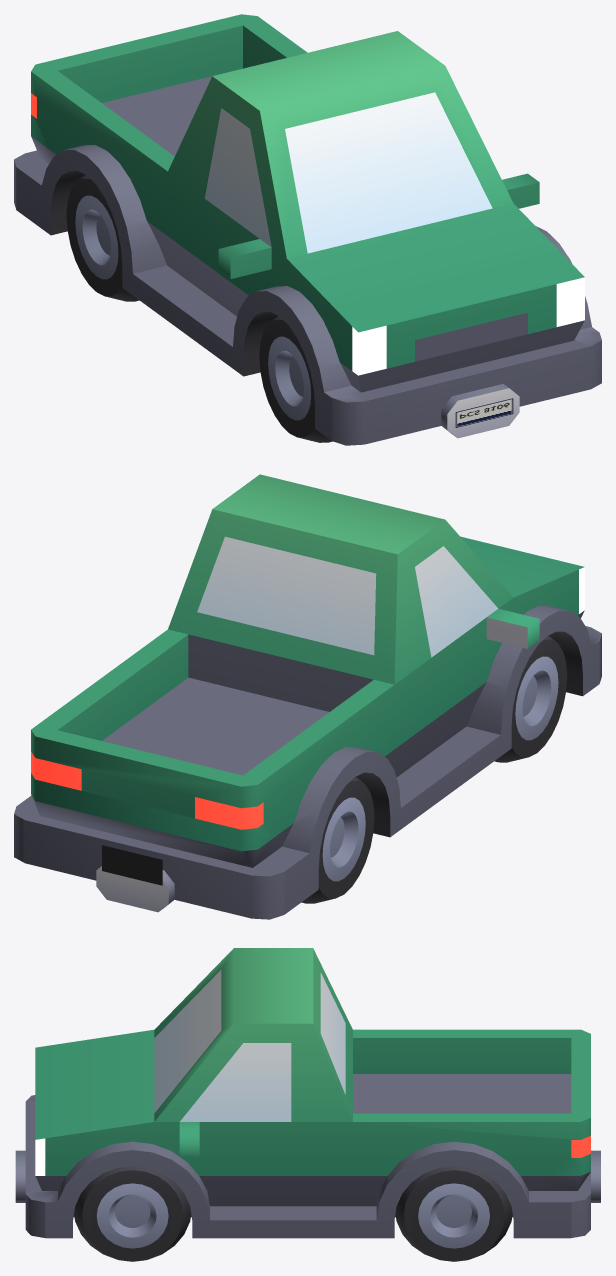
The model's file is pickup.glb.
The picture shows the model from 3 angles, top to bottom: view 1: azimuth 30°, elevation 25°; view 2: azimuth 150°, elevation 25°; view 3: azimuth 270°, elevation 25°; orthographic projection. The views are drawn at different scales.
Visible parts, largest first — view 1: body, hood, bumper_front, door_FR, wheel_RR, wheel_FR, headlight_R, headlight_L, plate, bumper_rear; view 2: body, door_FR, bumper_rear, wheel_RR, wheel_FR, hood, plate, taillight_R, door_FL, taillight_L, bumper_front; view 3: body, door_FL, hood, wheel_FL, wheel_RL, bumper_front, bumper_rear, door_FR.
Part boxes in pixels (x1,y1,x2,y2): body: [16, 14, 587, 426]; hood: [257, 203, 584, 361]; bumper_front: [315, 303, 601, 445]; door_FR: [122, 76, 271, 376]; wheel_RR: [66, 174, 139, 301]; wheel_FR: [259, 316, 332, 442]; headlight_R: [352, 325, 386, 375]; headlight_L: [556, 277, 584, 326]; plate: [455, 398, 513, 427]; bumper_rear: [14, 115, 48, 209]; body: [14, 474, 587, 914]; door_FR: [357, 520, 511, 836]; bumper_rear: [14, 774, 308, 919]; wheel_RR: [301, 776, 374, 903]; wheel_FR: [494, 635, 567, 762]; hood: [460, 536, 584, 623]; plate: [102, 845, 162, 885]; taillight_R: [195, 797, 263, 829]; door_FL: [128, 635, 188, 721]; taillight_L: [31, 751, 81, 790]; bumper_front: [577, 610, 601, 695]; body: [45, 948, 590, 1238]; door_FL: [180, 1024, 414, 1238]; hood: [35, 1029, 171, 1175]; wheel_FL: [74, 1166, 191, 1261]; wheel_RL: [395, 1166, 512, 1261]; bumper_front: [15, 1095, 72, 1238]; bumper_rear: [529, 1150, 600, 1237]; door_FR: [353, 1038, 453, 1073].
Size of the model in its own units: 2.25 by 1.95 by 4.44.
Materials: 5 (2 with a texture image).
